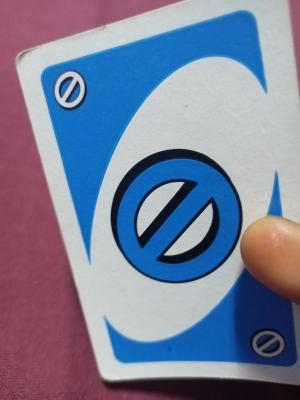blue: (41, 61, 282, 241)
skip: (48, 68, 96, 113), (245, 326, 288, 360)
